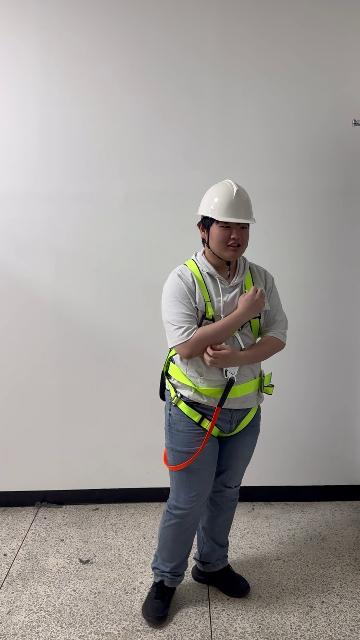helmet_worn: (197, 178, 253, 226)
shoe_not_worn: (190, 564, 256, 602), (139, 579, 178, 626)
vest_worn: (163, 258, 275, 438)
